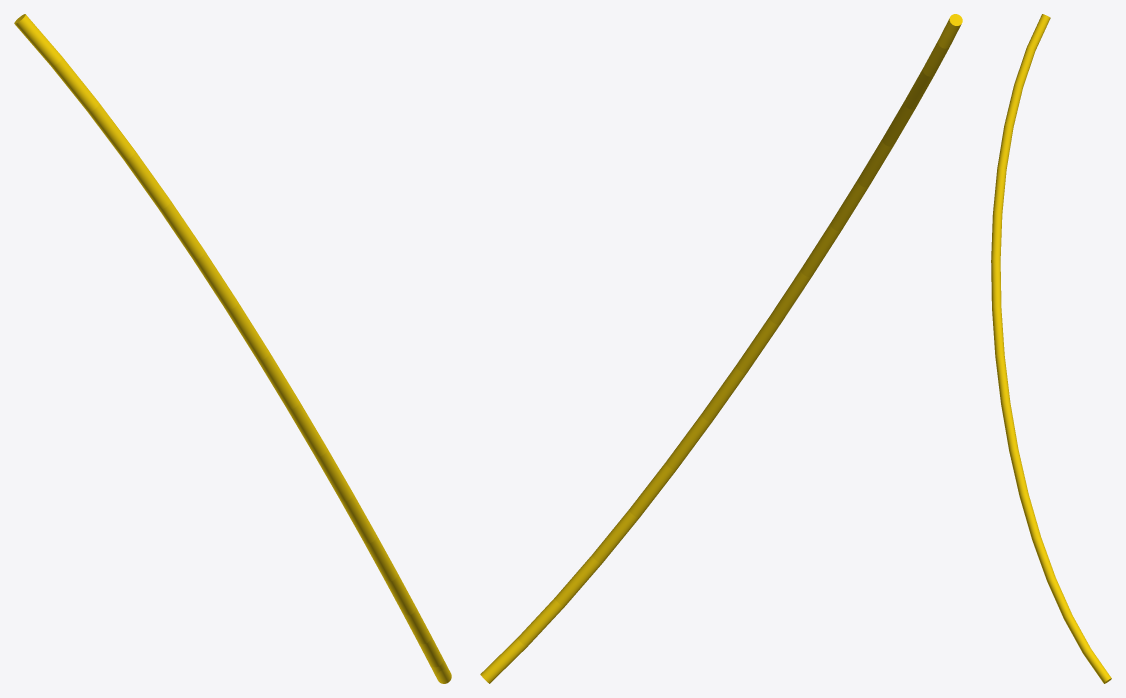
The model's file is Event_421278790_track_1.fbx.
3 renders of one model, left to right at view 1: azimuth 30°, elevation 25°; view 2: azimuth 150°, elevation 25°; view 3: azimuth 270°, elevation 25°, orthographic. The views are drawn at different scales.
Parts seen in each view (by area): view 1: Model; view 2: Model; view 3: Model.
Boxes of the visible parts, x1,y1,x2,y2 form: Model: [14, 14, 451, 683]; Model: [480, 14, 962, 683]; Model: [991, 14, 1111, 683].
Bounding box in the file's own units: 1.5 × 2.42 × 0.5054.
